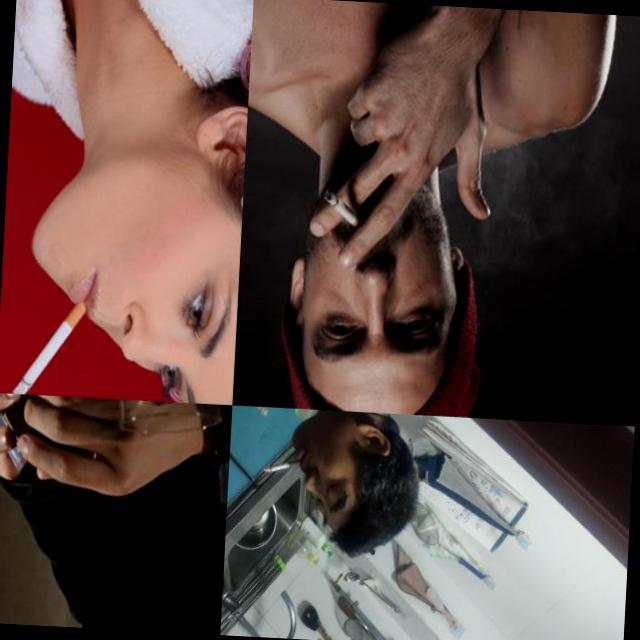cigarette: (10, 293, 90, 398), (319, 188, 364, 232), (263, 458, 301, 474)
